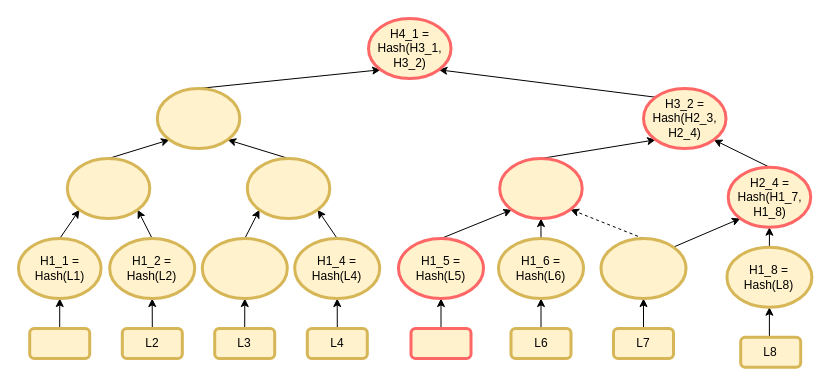
This 831x386 diagram has some shape labels left out. Each missing label, with the box of its shape:
H1_3 = Hash(L3): (200, 236, 288, 300)
H1_7 = Hash(L7): (599, 236, 687, 300)
H2_1 = Hash(H1_1, H1_2): (65, 156, 151, 220)
H2_2 = Hash(H1_3, H1_4): (245, 156, 331, 220)
H2_3 = Hash(H1_5, H1_6): (498, 156, 583, 220)
H3_1 = Hash(H2_1, H2_2): (155, 86, 241, 150)
L1: (28, 326, 91, 360)
L5: (409, 326, 472, 360)
